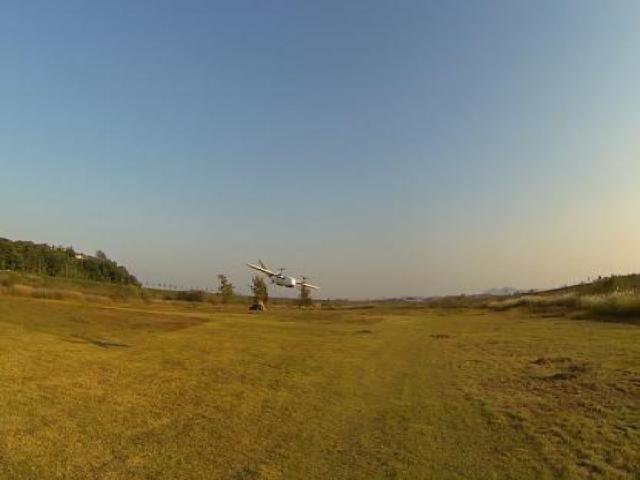uav: (236, 249, 324, 298)
